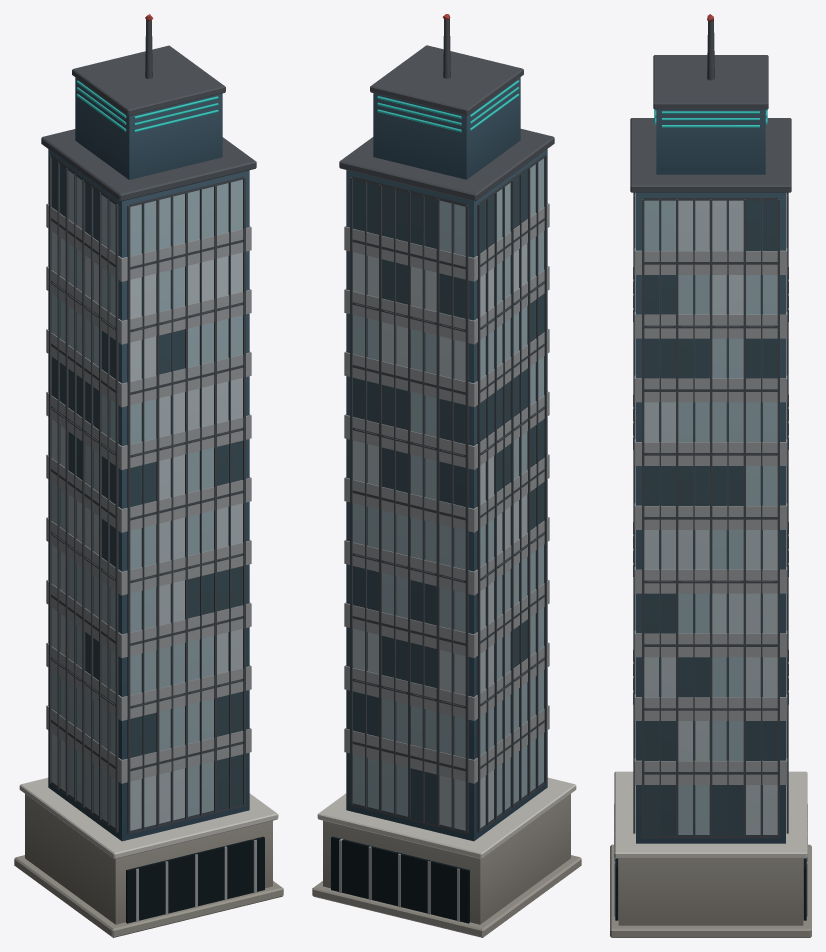
Rendered from downtown_glass_tower.glb.
3 views of the same model, side by side, from view 1: azimuth 30°, elevation 25°; view 2: azimuth 150°, elevation 25°; view 3: azimuth 270°, elevation 25° (orthographic).
Visible parts, largest first — view 1: downtown_glass_tower; view 2: downtown_glass_tower; view 3: downtown_glass_tower.
Part boxes in pixels (x1,y1,x2,y2): downtown_glass_tower: (14, 14, 283, 937); downtown_glass_tower: (312, 14, 581, 937); downtown_glass_tower: (610, 14, 811, 937).
Bounding box in the file's own units: 7 × 33.73 × 7.
